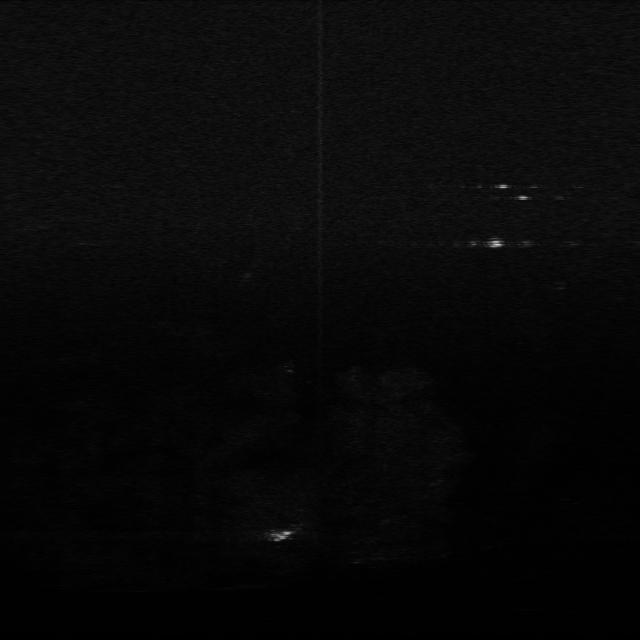rov: (486, 233, 506, 252)
